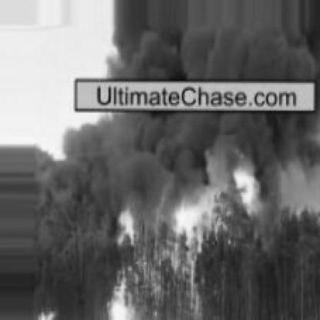Fire: (110, 154, 266, 314)
Smoke: (107, 7, 299, 176)
